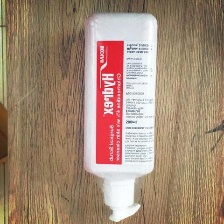cleaning_solution: (81, 9, 160, 222)
